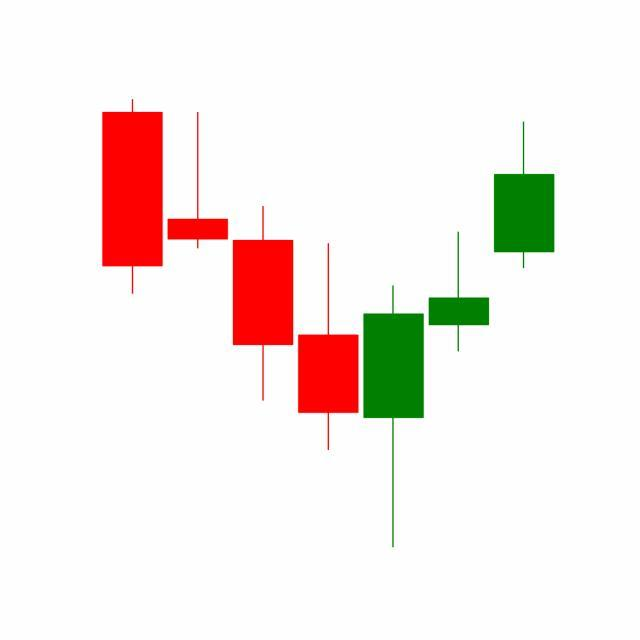Three Outside Up-Down: (295, 228, 492, 548)
